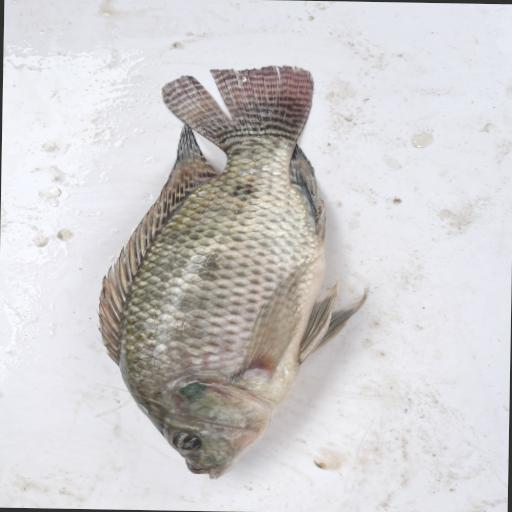Tilapia: (95, 62, 373, 483)
